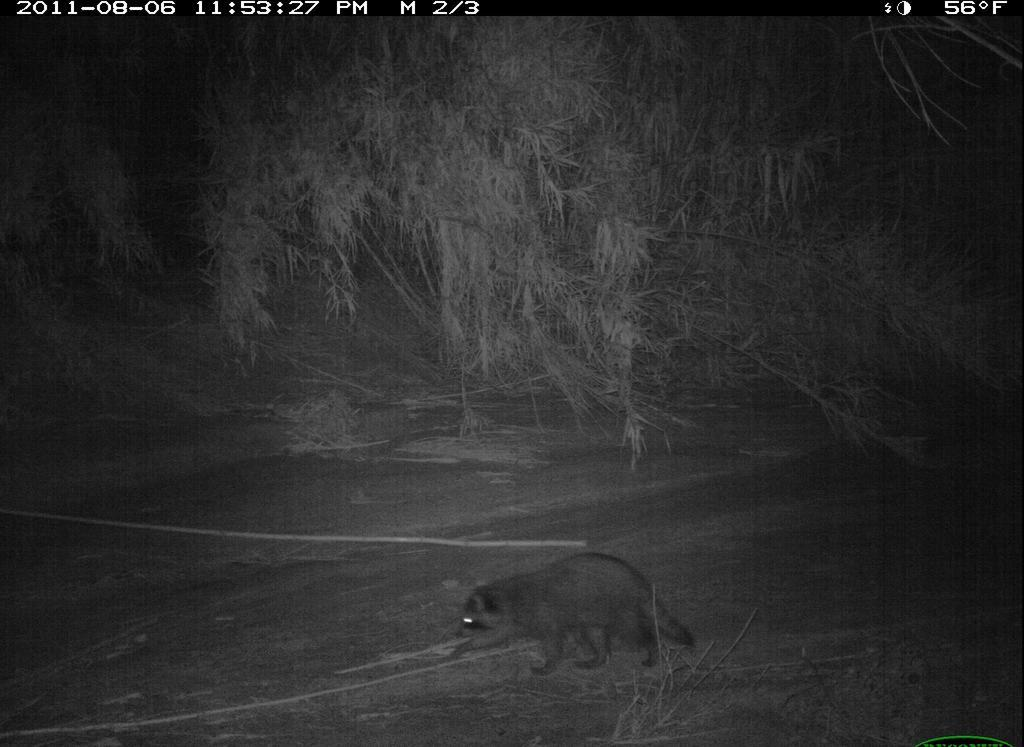raccoon: (446, 550, 706, 687)
